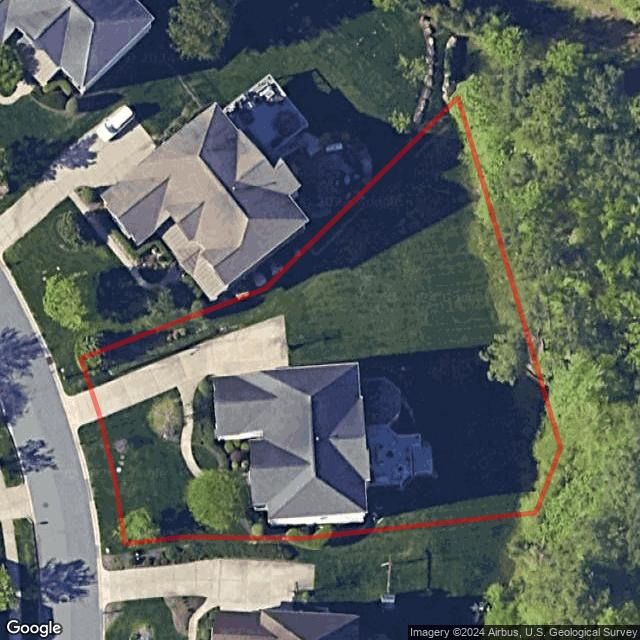Driveway: (91, 314, 289, 419), (57, 357, 90, 398)
Extra-Driveway: (67, 390, 100, 428)
Extra-Lawn: (78, 418, 127, 546)
House: (212, 361, 372, 525)
Lawn: (80, 98, 559, 543)
Other: (360, 376, 431, 491), (192, 375, 252, 471), (147, 388, 183, 445)
Sidewalk: (178, 380, 250, 488)
